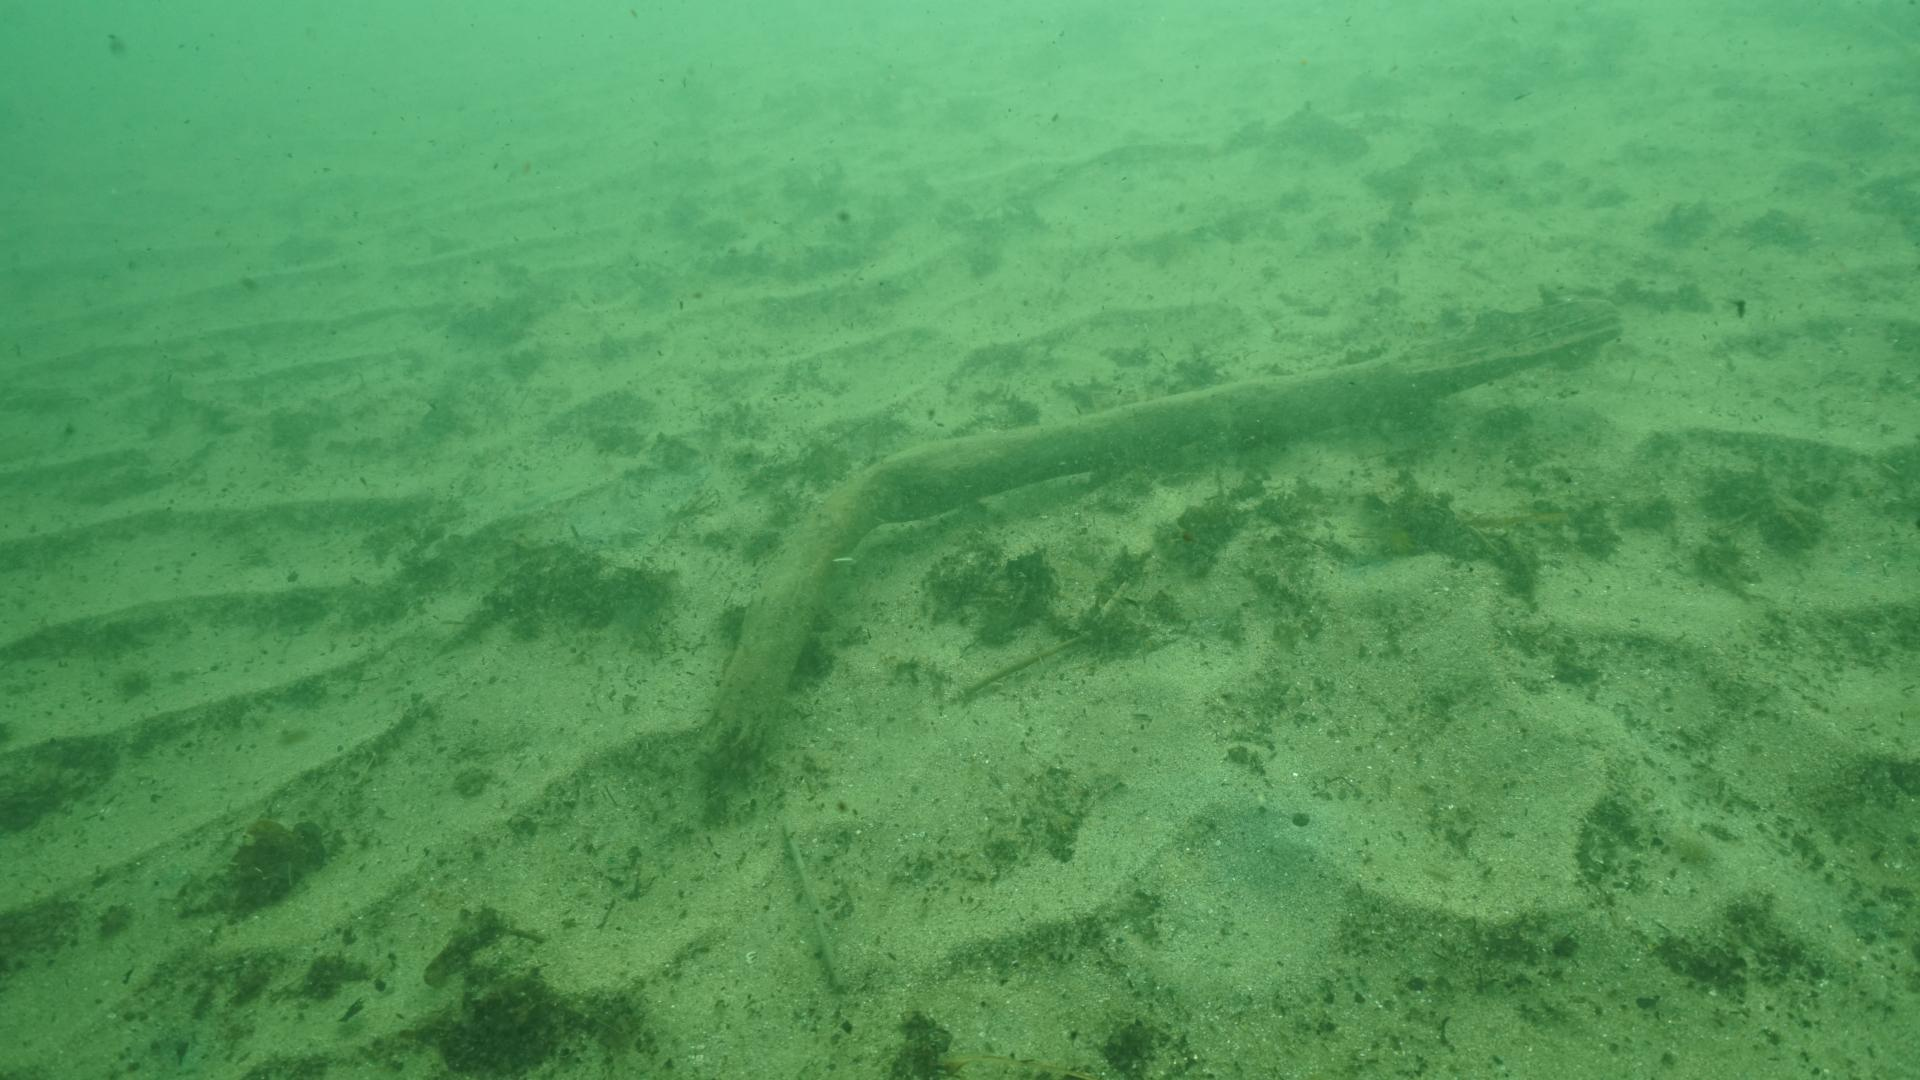wood: (691, 309, 1625, 770)
